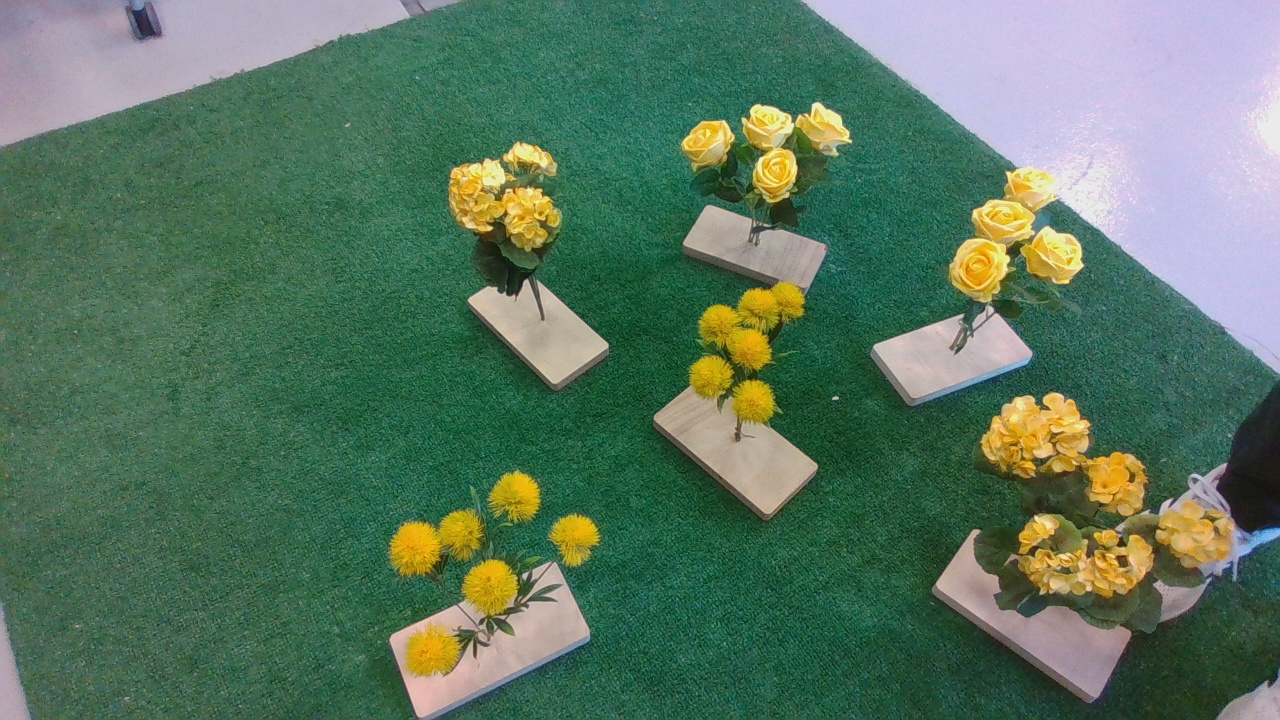dandelion: (378, 474, 618, 689), (687, 275, 817, 436)
geranium: (969, 391, 1247, 645), (450, 142, 575, 321)
rose: (937, 163, 1090, 363), (677, 100, 862, 239)
